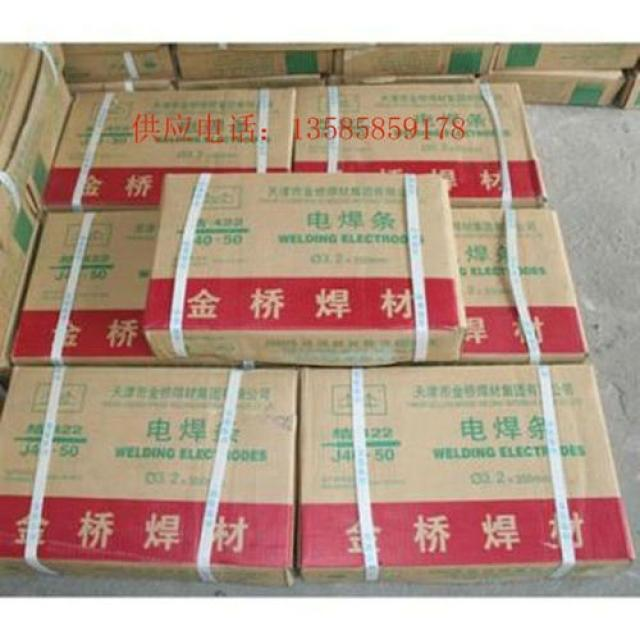box: (299, 364, 633, 586), (0, 366, 299, 588), (143, 173, 466, 364), (293, 84, 547, 210), (43, 87, 299, 210), (6, 209, 161, 365), (449, 209, 587, 364), (0, 42, 66, 261), (478, 45, 639, 106), (172, 42, 338, 89), (22, 78, 75, 214), (0, 191, 41, 366), (331, 46, 498, 84), (62, 42, 177, 94), (613, 73, 639, 111)
